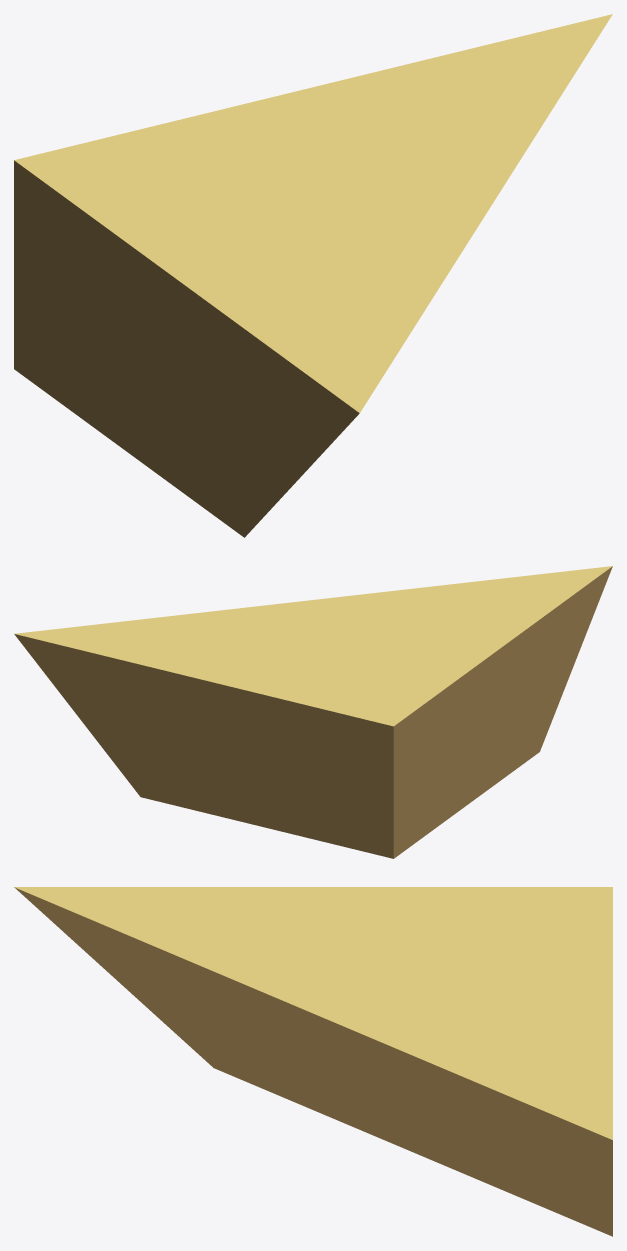
Rendered from Terrain_Tile_Sand_Ledge_Corner_01.fbx.
3 renders of one model, top to bottom at view 1: azimuth 30°, elevation 25°; view 2: azimuth 150°, elevation 25°; view 3: azimuth 270°, elevation 25°, orthographic. The views are drawn at different scales.
Parts seen in each view (by area): view 1: Terrain_Tile_Sand_Ledge_Corner_01; view 2: Terrain_Tile_Sand_Ledge_Corner_01; view 3: Terrain_Tile_Sand_Ledge_Corner_01.
Boxes of the visible parts, bbox=[...] form: Terrain_Tile_Sand_Ledge_Corner_01: bbox=[14, 14, 612, 537]; Terrain_Tile_Sand_Ledge_Corner_01: bbox=[14, 566, 612, 858]; Terrain_Tile_Sand_Ledge_Corner_01: bbox=[14, 887, 612, 1236].
Bounding box in the file's own units: 47.24 × 15.75 × 47.24.
